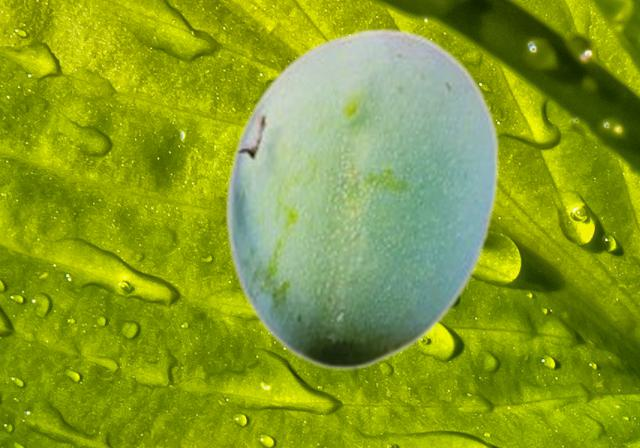green_mango: (224, 27, 499, 369)
